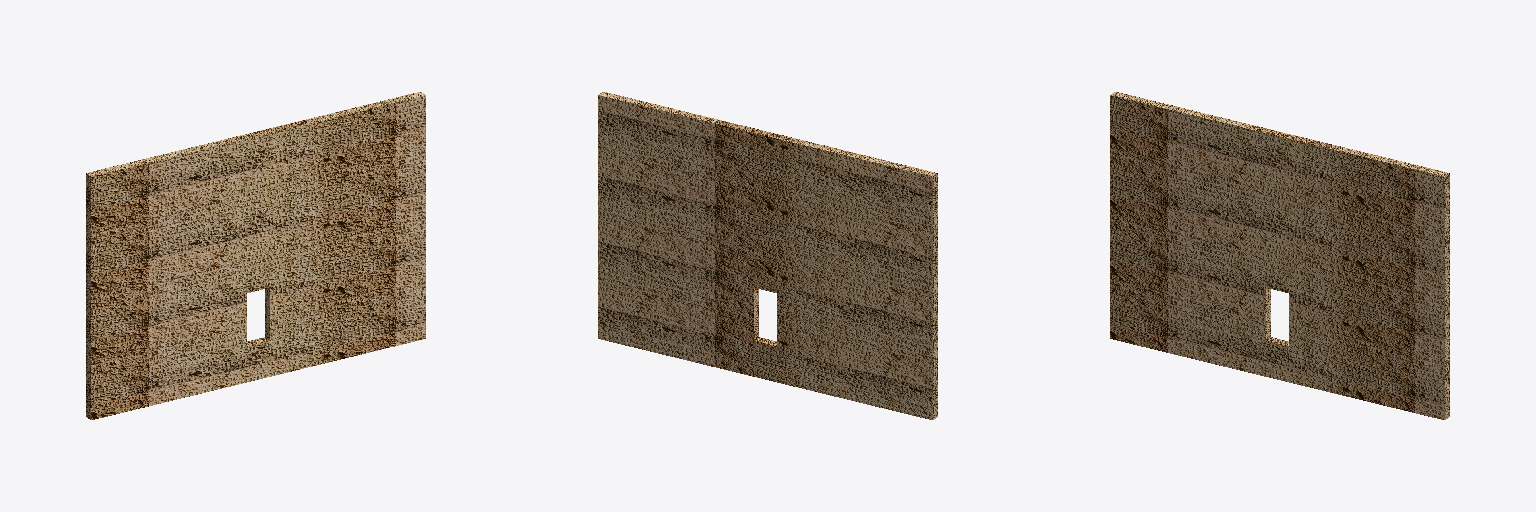
3 views of the same model, side by side, from view 1: azimuth 30°, elevation 25°; view 2: azimuth 150°, elevation 25°; view 3: azimuth 330°, elevation 25° (orthographic).
Parts seen in each view (by area): view 1: Wall_InsideRm2_Cube.008; view 2: Wall_InsideRm2_Cube.008; view 3: Wall_InsideRm2_Cube.008.
Boxes of the visible parts, x1=… form: Wall_InsideRm2_Cube.008: x1=86, y1=92, x2=425, y2=419; Wall_InsideRm2_Cube.008: x1=598, y1=92, x2=937, y2=419; Wall_InsideRm2_Cube.008: x1=1110, y1=92, x2=1449, y2=419.
Bounding box in the file's own units: 9.23 × 6.43 × 0.235.
1 materials, 1 textured.